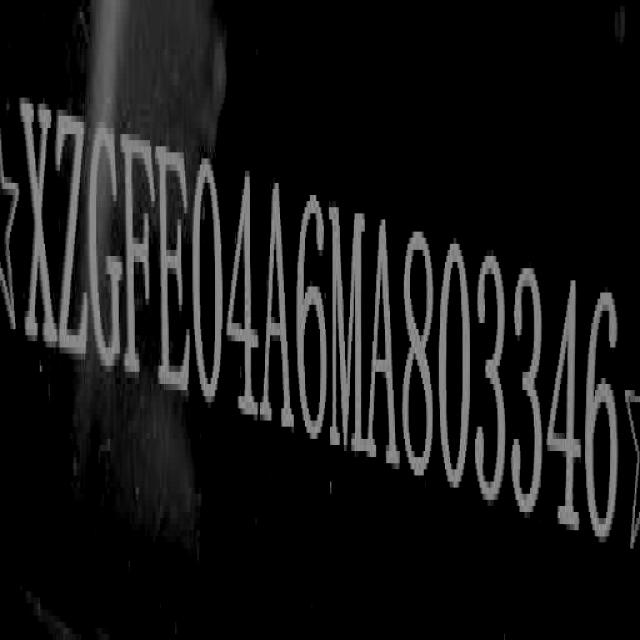0: (438, 232, 469, 494), (194, 151, 224, 420)
3: (475, 244, 509, 514), (513, 255, 546, 527)
4: (226, 156, 261, 431), (548, 271, 582, 546)
6: (586, 276, 624, 554), (297, 176, 330, 454)
8: (401, 218, 435, 491)
A: (370, 198, 398, 473), (264, 170, 292, 445)
E: (158, 134, 192, 412)
F: (123, 120, 157, 405)
G: (90, 112, 125, 384)
M: (328, 188, 367, 466)
X: (16, 88, 58, 359)
Z: (54, 99, 86, 374)
